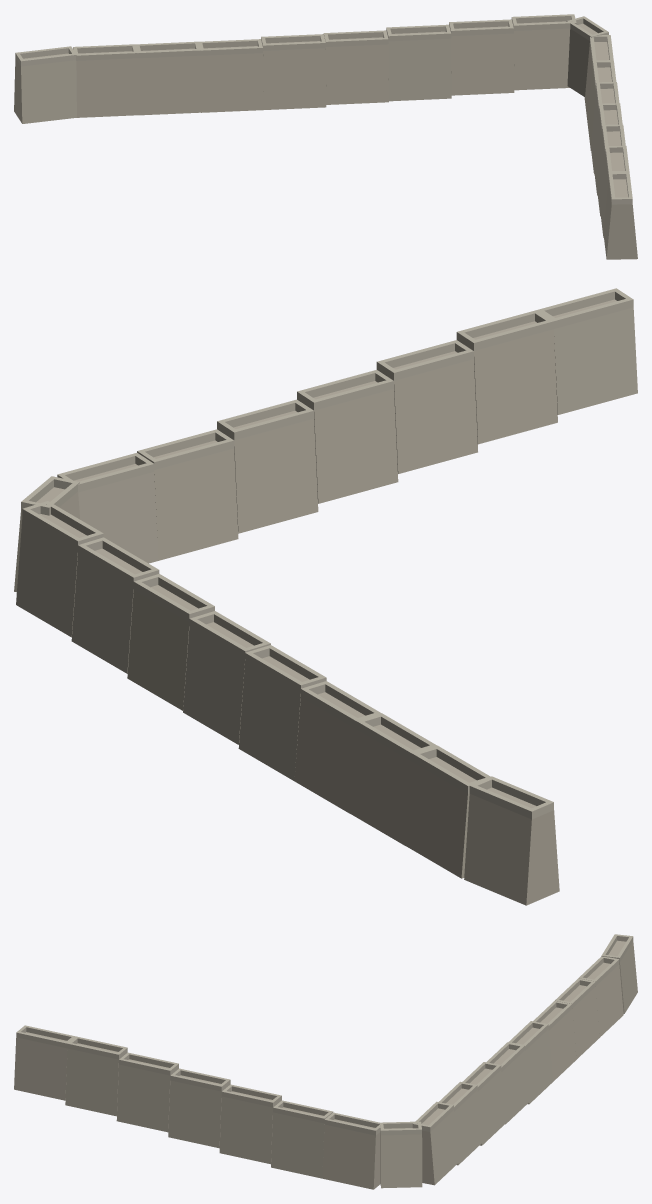
Rendered from bormla_65_28_collision.glb.
3 views of the same model, one above another, from view 1: azimuth 30°, elevation 25°; view 2: azimuth 150°, elevation 25°; view 3: azimuth 270°, elevation 25° (orthographic). The views are drawn at different scales.
Visible parts, largest first — view 1: geometry_0; view 2: geometry_0; view 3: geometry_0.
Boxes of the visible parts, x1,y1,x2,y2 form: geometry_0: (14, 14, 637, 259); geometry_0: (14, 288, 637, 905); geometry_0: (14, 934, 637, 1189).
Bounding box in the file's own units: 103 × 19.55 × 130.
